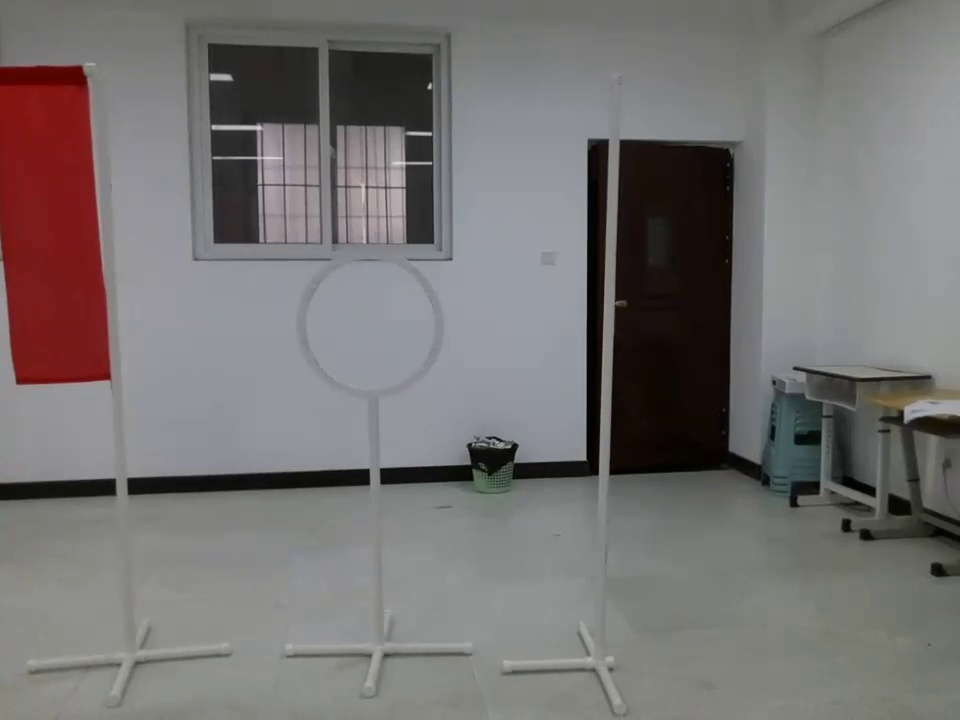gan: (590, 63, 633, 659)
qi: (26, 86, 135, 377)
quan: (291, 226, 461, 407)
